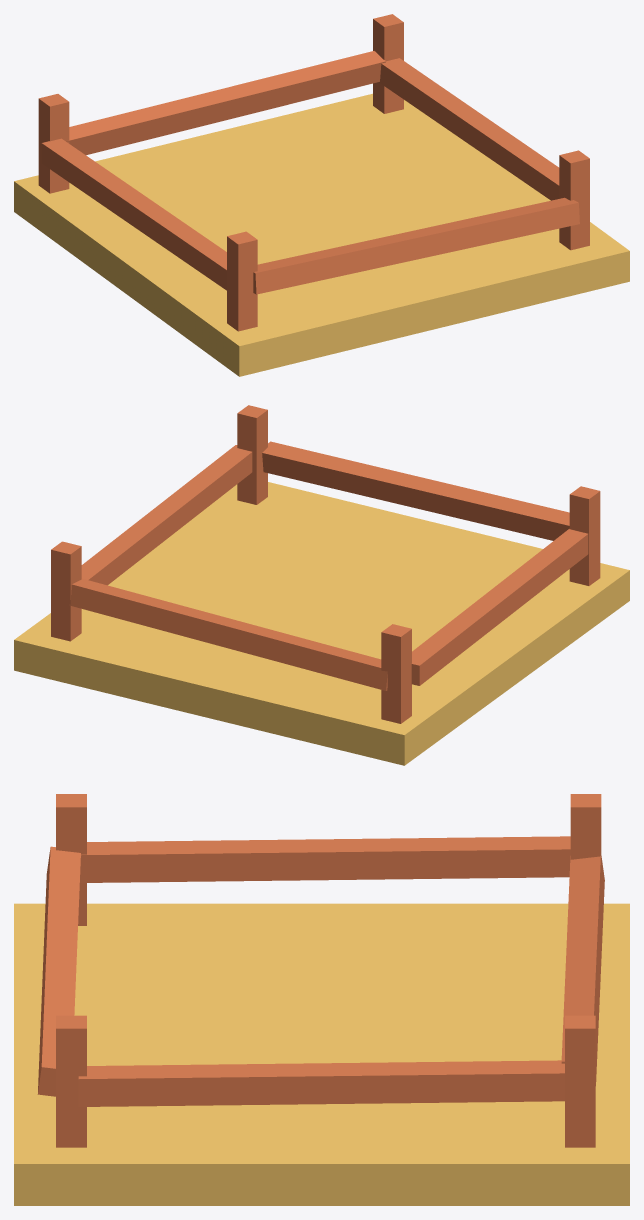
File: vybeh.fbx
3 views of the same model, one above another, from view 1: azimuth 30°, elevation 25°; view 2: azimuth 150°, elevation 25°; view 3: azimuth 270°, elevation 25° (orthographic). The views are drawn at different scales.
Parts seen in each view (by area): view 1: Cube, Cube.008, Cube.002, Cube.007, Cube.004, Cube.005, Cube.003, Cube.006, Cube.001; view 2: Cube, Cube.002, Cube.008, Cube.007, Cube.004, Cube.006, Cube.001, Cube.005, Cube.003; view 3: Cube, Cube.007, Cube.004, Cube.002, Cube.008, Cube.001, Cube.003, Cube.005, Cube.006.
Part boxes in pixels (bbox=[...]): Cube: bbox=[14, 93, 629, 376]; Cube.008: bbox=[66, 51, 385, 155]; Cube.002: bbox=[253, 197, 579, 294]; Cube.007: bbox=[41, 138, 226, 290]; Cube.004: bbox=[379, 58, 559, 200]; Cube.005: bbox=[227, 231, 257, 331]; Cube.003: bbox=[559, 150, 589, 250]; Cube.006: bbox=[38, 94, 69, 193]; Cube.001: bbox=[373, 14, 403, 113]; Cube: bbox=[14, 482, 629, 765]; Cube.002: bbox=[262, 441, 569, 540]; Cube.008: bbox=[69, 578, 387, 690]; Cube.007: bbox=[411, 529, 588, 685]; Cube.004: bbox=[81, 445, 252, 585]; Cube.006: bbox=[381, 624, 411, 723]; Cube.001: bbox=[51, 541, 81, 641]; Cube.005: bbox=[569, 486, 600, 585]; Cube.003: bbox=[237, 405, 267, 504]; Cube: bbox=[14, 903, 629, 1205]; Cube.007: bbox=[80, 836, 570, 882]; Cube.004: bbox=[78, 1060, 564, 1106]; Cube.002: bbox=[37, 846, 80, 1096]; Cube.008: bbox=[561, 856, 604, 1085]; Cube.001: bbox=[565, 1015, 595, 1147]; Cube.003: bbox=[56, 1015, 86, 1147]; Cube.005: bbox=[56, 794, 86, 925]; Cube.006: bbox=[570, 794, 601, 859].
Size of the model in its own units: 1000 by 288 by 1000.
